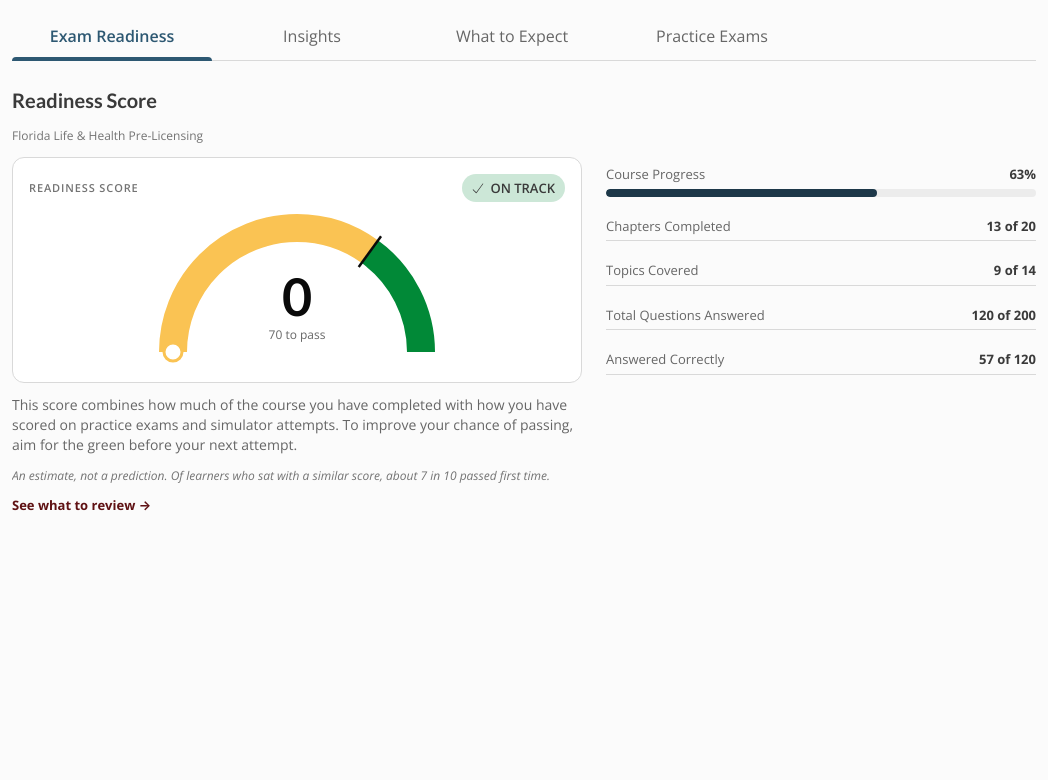
the readiness score › states the pass mark the same in the gauge and in What to Expect
The width and height of the screenshot is (1048, 780).
Expected: the text "70 to pass" is shown, [268,326,325,344]
Click the tab "What to Expect" at (512, 36), box [412,12,612,60]
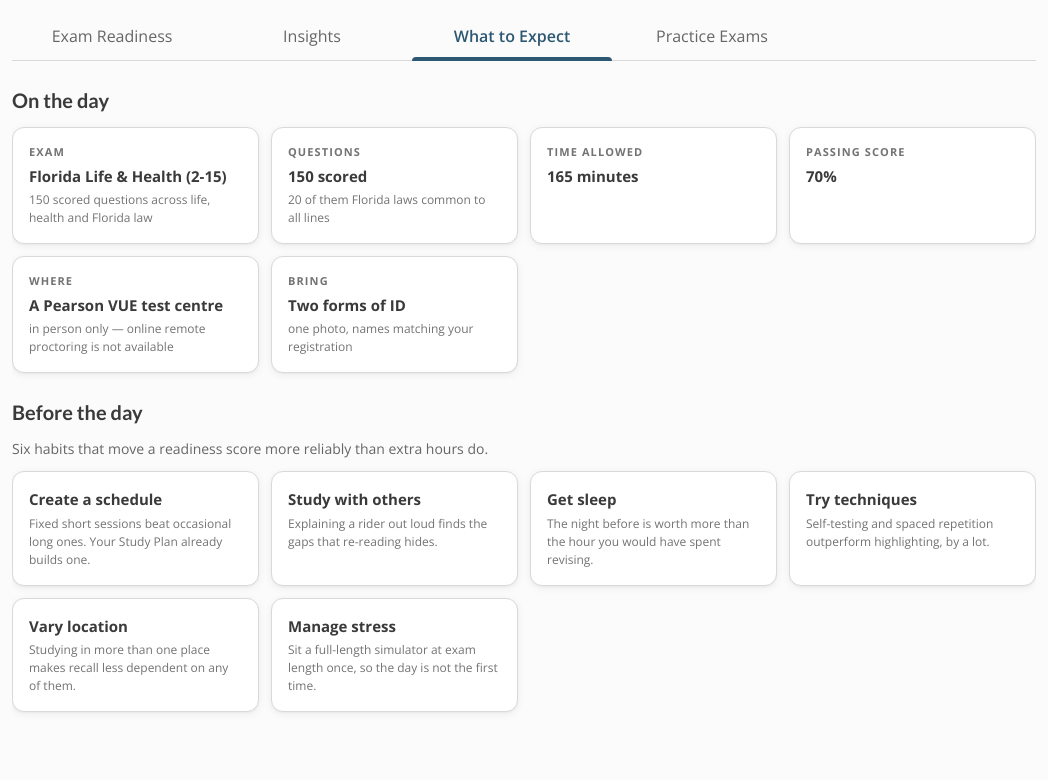
Expected: the text "70%" is shown, [806,166,837,186]
